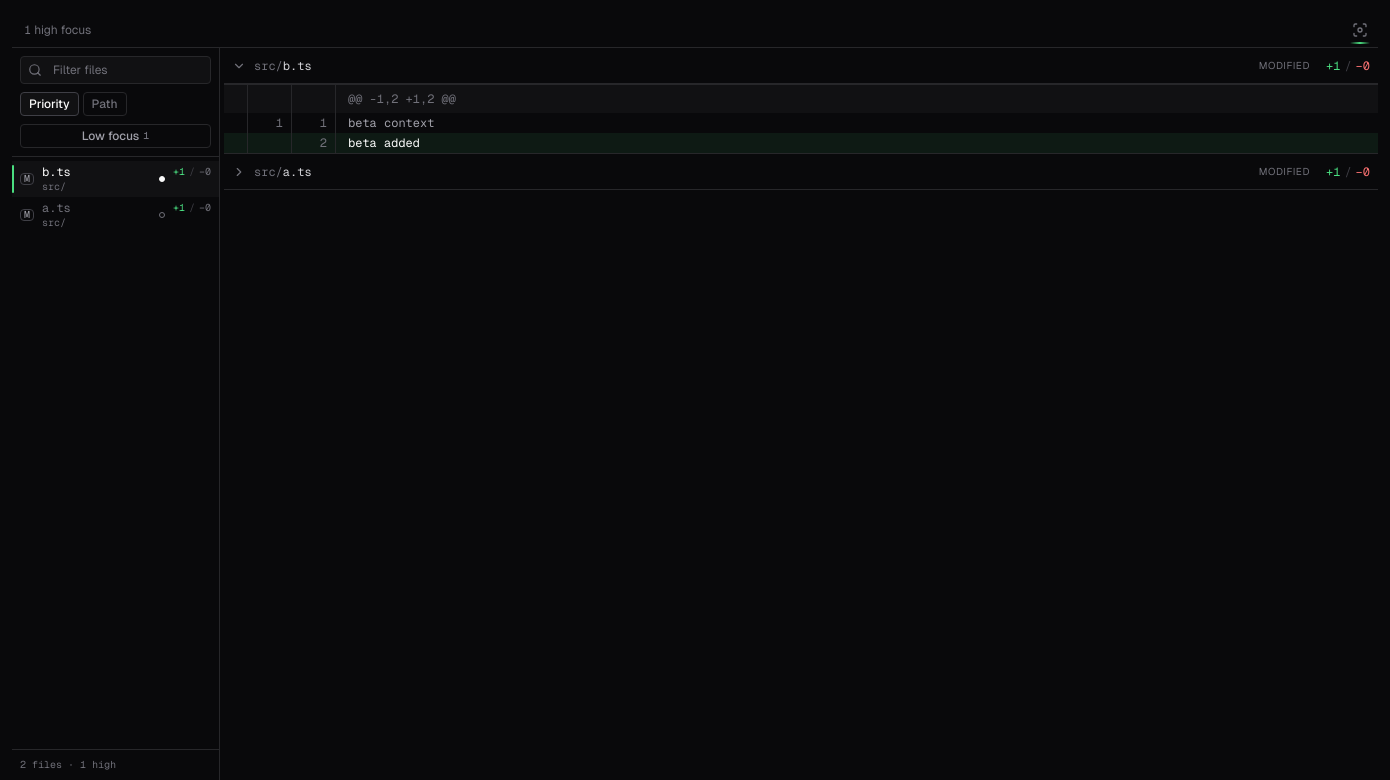
Test: DiffView › low-focus files can be hidden and are named in the toolbar
Click the button with aria-label "Low focus, 1 file, shown" at point(116, 136), box [20,124,211,148]
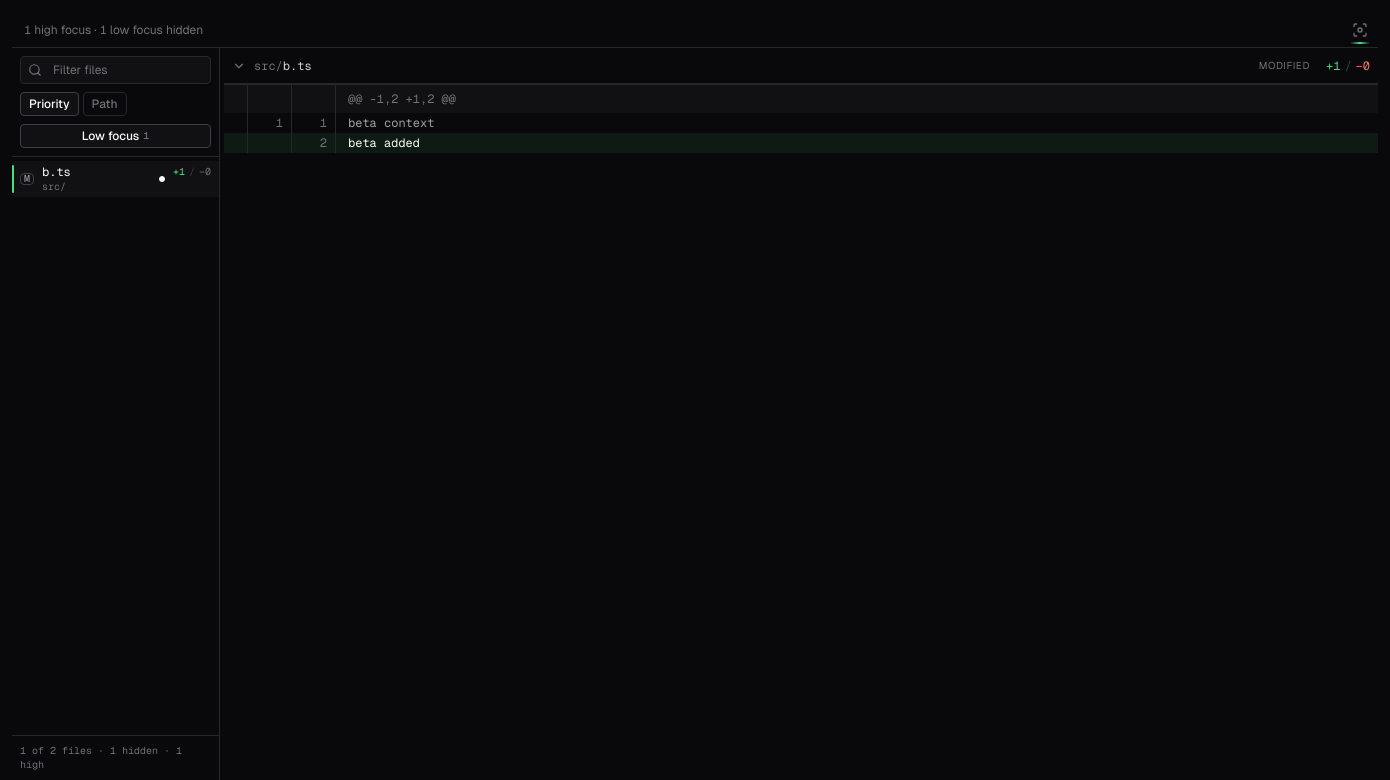
Now the button "a.ts" is gone
Now the text "· 1 low focus hidden" is shown, box [91,22,203,38]
